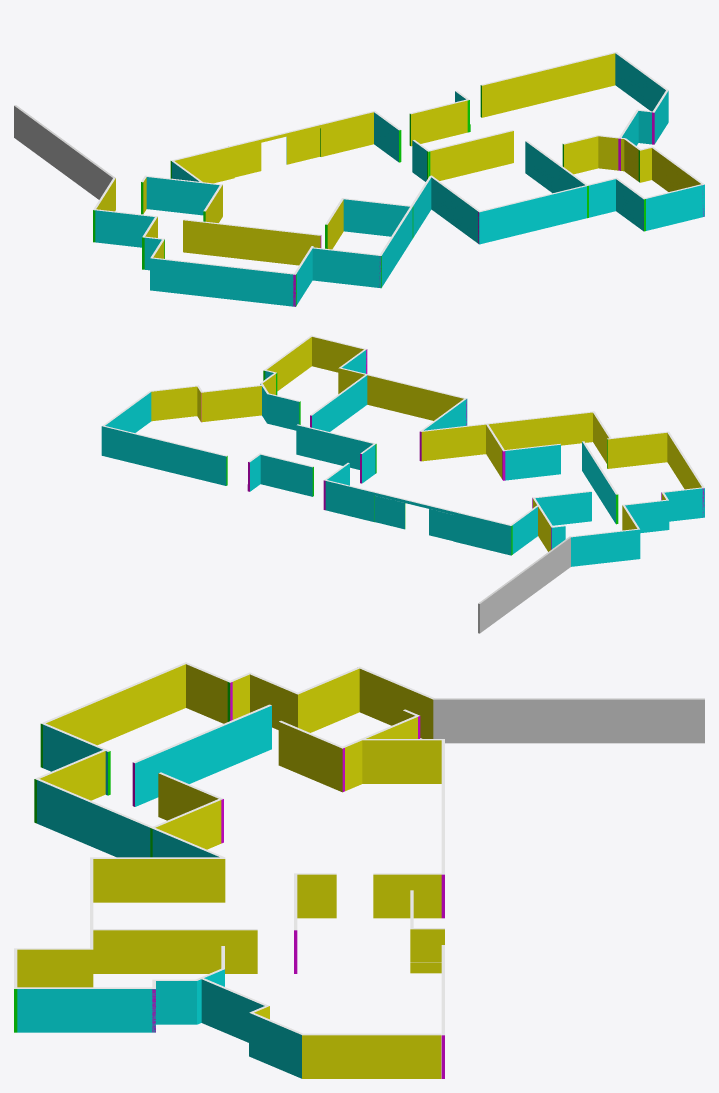
File: NewestWalls.fbx
3 renders of one model, top to bottom at view 1: azimuth 30°, elevation 25°; view 2: azimuth 150°, elevation 25°; view 3: azimuth 270°, elevation 25°, orthographic. The views are drawn at different scales.
Visible parts, largest first — view 1: new_wall_08, new_wall_13, new_wall_30, new_wall_26, new_wall_02, new_wall_34, new_wall_10, new_wall_28, new_wall_24, new_wall_15, new_wall_33, new_wall_11 (+24 smaller); view 2: new_wall_11, new_wall_30, new_wall_13, new_wall_02, new_wall_03, new_wall_34, new_wall_20, new_wall_09, new_wall_32, new_wall_25, new_wall_33, new_wall_35 (+19 smaller); view 3: new_wall_02, new_wall_35, new_wall_23, new_wall_16, new_wall_11, new_wall_12, new_wall_26, new_wall_08, new_wall_39, new_wall_37, new_wall_27, new_wall_14 (+15 smaller).
Boxes of the visible parts, left/top/right/bottom form: new_wall_08: left=150, top=257, right=296, bottom=306; new_wall_13: left=478, top=178, right=615, bottom=244; new_wall_30: left=480, top=52, right=617, bottom=117; new_wall_26: left=183, top=219, right=321, bottom=265; new_wall_02: left=14, top=105, right=115, bottom=199; new_wall_34: left=427, top=130, right=513, bottom=180; new_wall_10: left=310, top=247, right=381, bottom=288; new_wall_28: left=146, top=176, right=220, bottom=215; new_wall_24: left=343, top=198, right=413, bottom=238; new_wall_15: left=643, top=184, right=704, bottom=230; new_wall_33: left=409, top=99, right=469, bottom=146; new_wall_11: left=379, top=176, right=431, bottom=287; new_wall_11: left=421, top=411, right=593, bottom=461; new_wall_30: left=101, top=425, right=227, bottom=485; new_wall_13: left=338, top=367, right=466, bottom=425; new_wall_02: left=478, top=536, right=570, bottom=633; new_wall_03: left=570, top=528, right=640, bottom=566; new_wall_34: left=296, top=424, right=376, bottom=473; new_wall_20: left=201, top=384, right=263, bottom=422; new_wall_09: left=607, top=431, right=667, bottom=468; new_wall_32: left=453, top=512, right=512, bottom=555; new_wall_25: left=502, top=443, right=560, bottom=480; new_wall_33: left=260, top=454, right=313, bottom=496; new_wall_35: left=310, top=374, right=367, bottom=431; new_wall_02: left=433, top=698, right=704, bottom=743; new_wall_35: left=91, top=929, right=257, bottom=973; new_wall_23: left=302, top=1033, right=441, bottom=1078; new_wall_16: left=17, top=987, right=155, bottom=1032; new_wall_11: left=35, top=778, right=224, bottom=858; new_wall_12: left=90, top=857, right=225, bottom=902; new_wall_26: left=132, top=704, right=271, bottom=806; new_wall_08: left=40, top=662, right=186, bottom=767; new_wall_39: left=362, top=739, right=441, bottom=783; new_wall_37: left=373, top=873, right=444, bottom=918; new_wall_27: left=278, top=720, right=344, bottom=792; new_wall_14: left=14, top=948, right=93, bottom=987.
Size of the model in its own units: 6063 by 332 by 4745.
